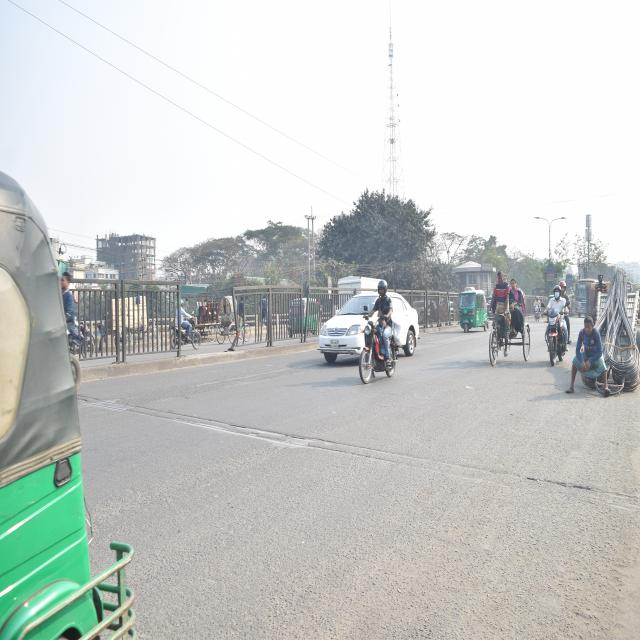car: (320, 284, 419, 362)
motorbike: (357, 318, 395, 389), (538, 296, 570, 376)
